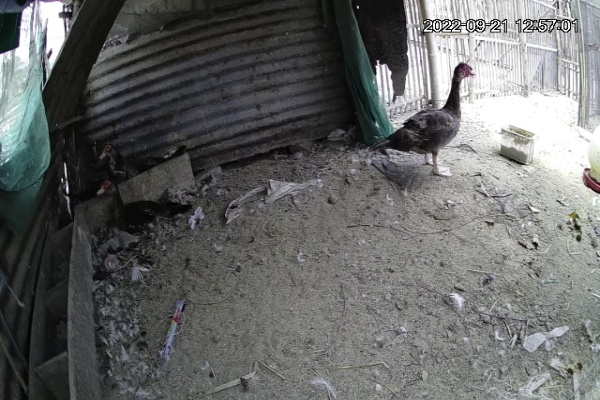Entog: (377, 53, 480, 183)
